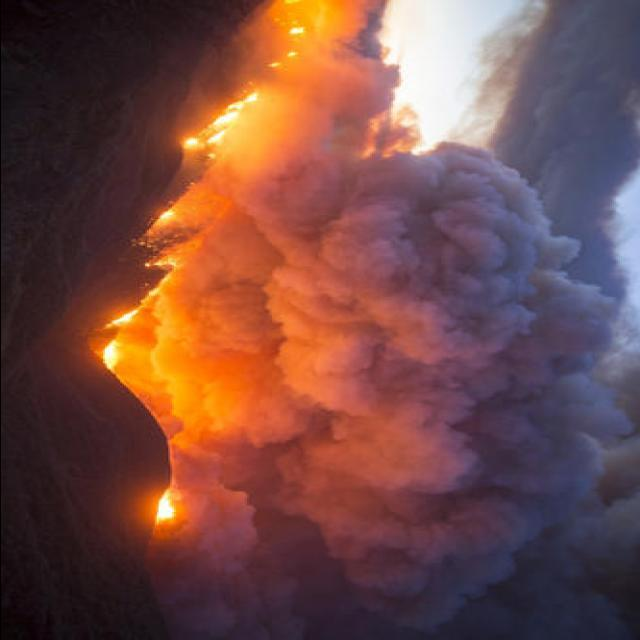Fire: (177, 6, 323, 160), (100, 205, 221, 376), (144, 482, 190, 538)
